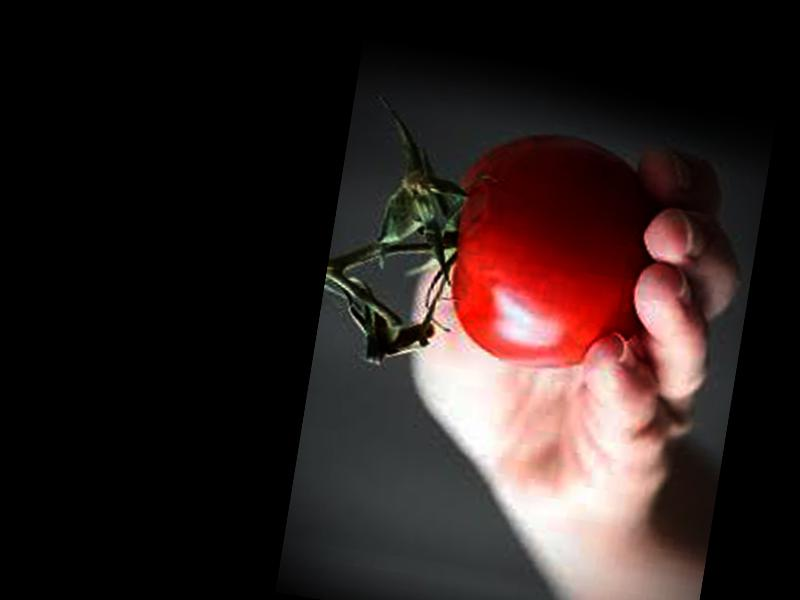Tomato: (430, 120, 669, 381)
